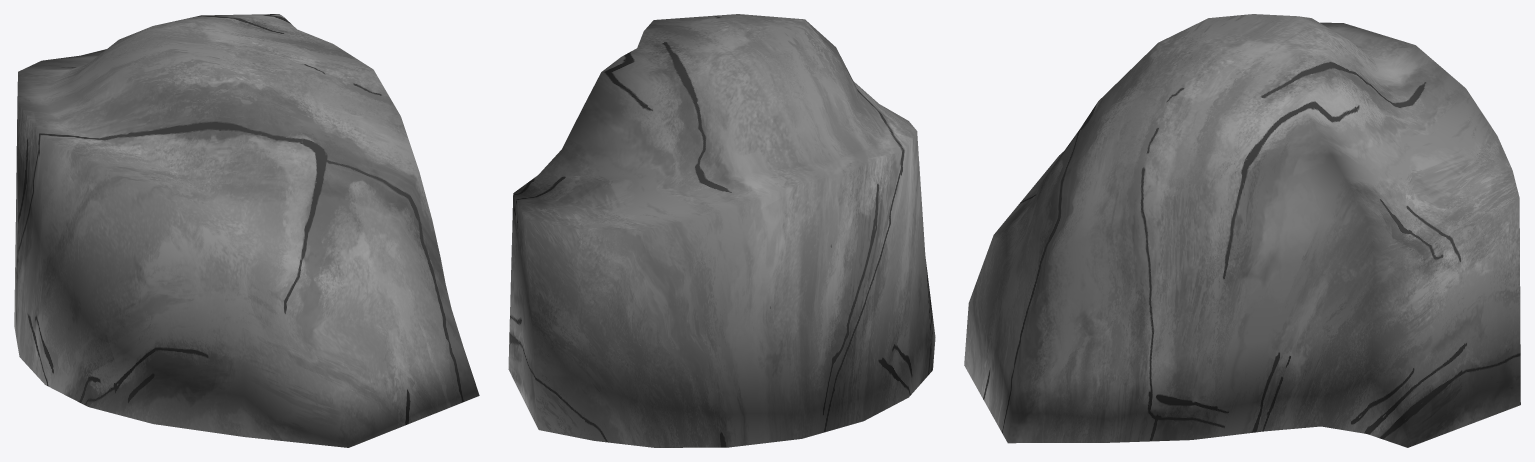
Rendered from Rock02.fbx.
The picture shows the model from 3 angles, left to right: view 1: azimuth 30°, elevation 25°; view 2: azimuth 150°, elevation 25°; view 3: azimuth 270°, elevation 25°; orthographic projection. The views are drawn at different scales.
Visible parts, largest first — view 1: Rock02; view 2: Rock02; view 3: Rock02.
Part boxes in pixels (x1,y1,x2,y2): Rock02: (14,14,479,447); Rock02: (508,14,935,447); Rock02: (964,14,1520,447).
Bounding box in the file's own units: 401 × 368 × 565.
Materials: 1 (1 with a texture image).
